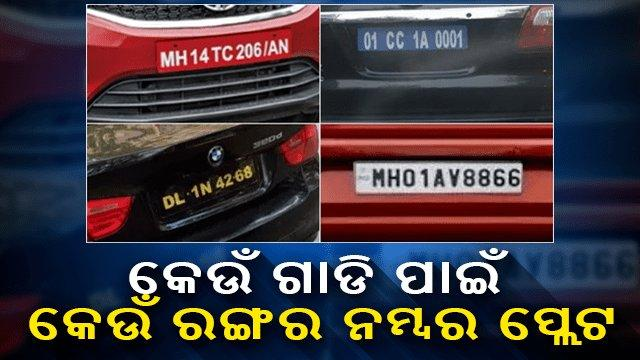Liscence Plate: (354, 161, 527, 196), (160, 163, 258, 211), (159, 36, 299, 63), (357, 27, 466, 53)
